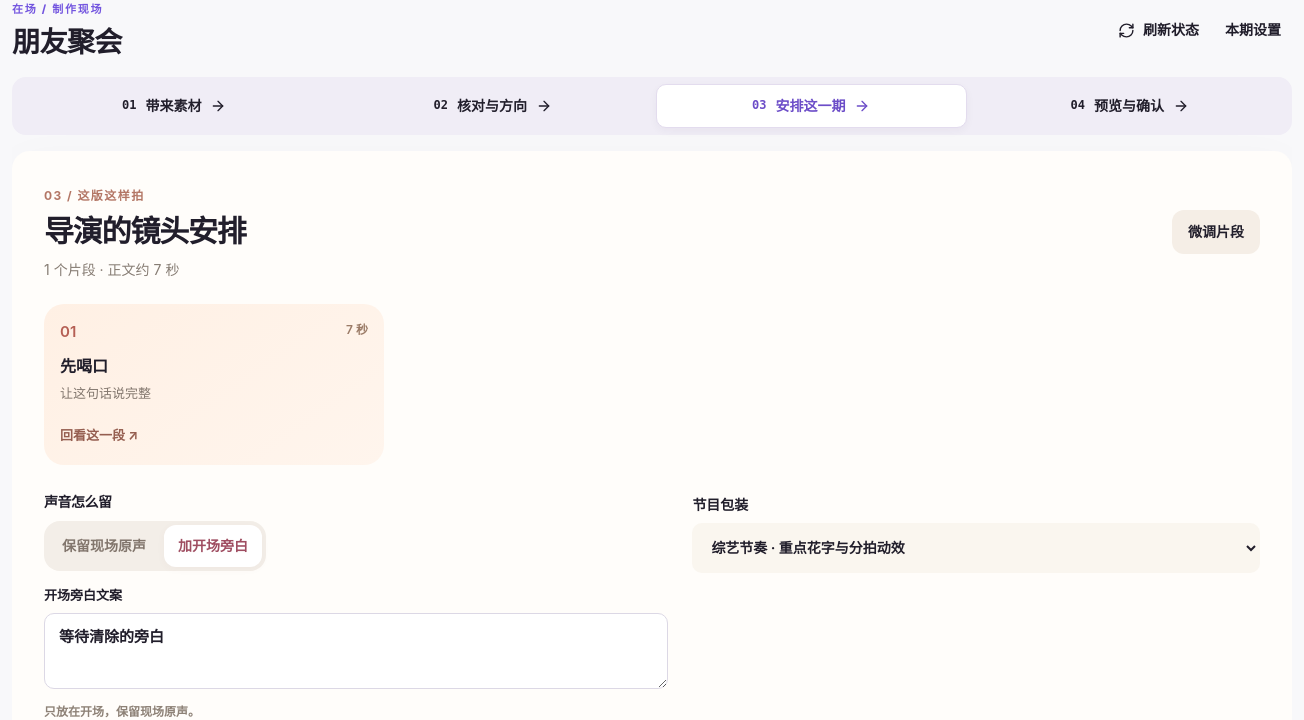
guided preview action › keeps a newly saved draft after a definite render failure and retries only its render
Later steps or results of the test are not shown.
Click the button "保留现场原声". click: click(104, 546)
box: left=48, top=525, right=160, bottom=567
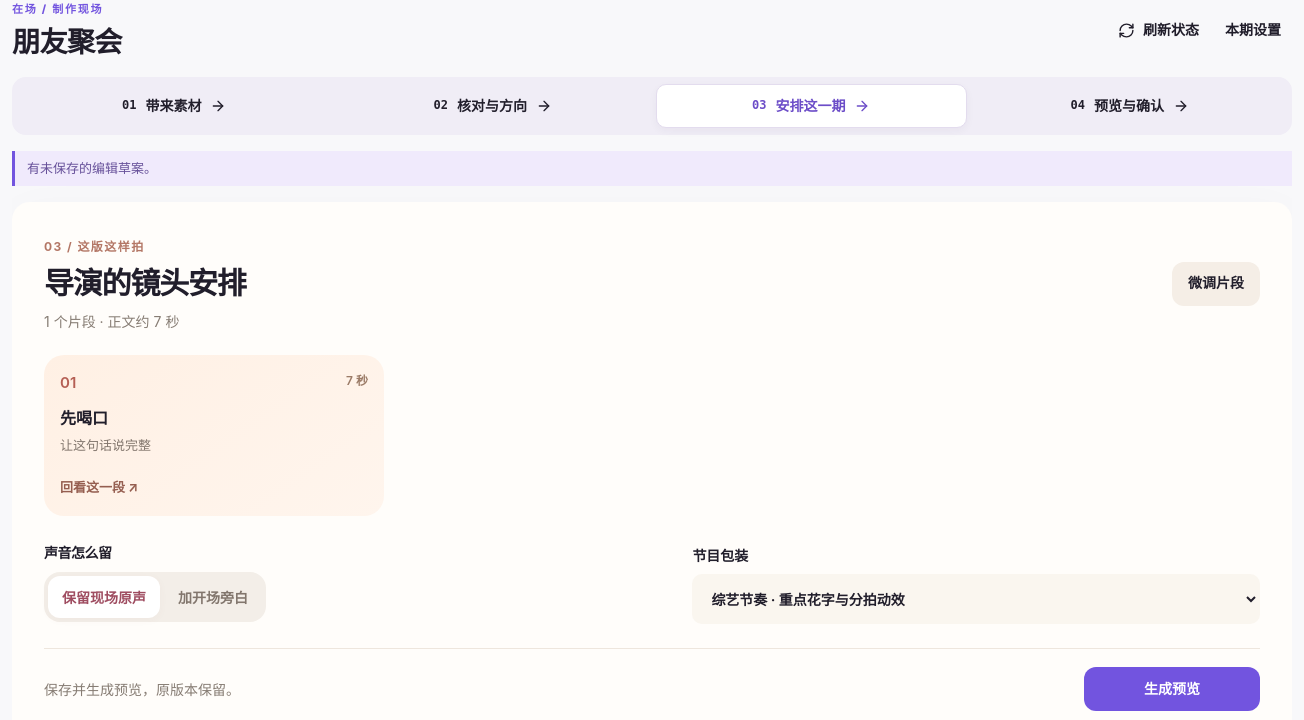
Click the button "生成预览". click: click(1172, 689)
box: left=1084, top=667, right=1260, bottom=711
(page scrolled)
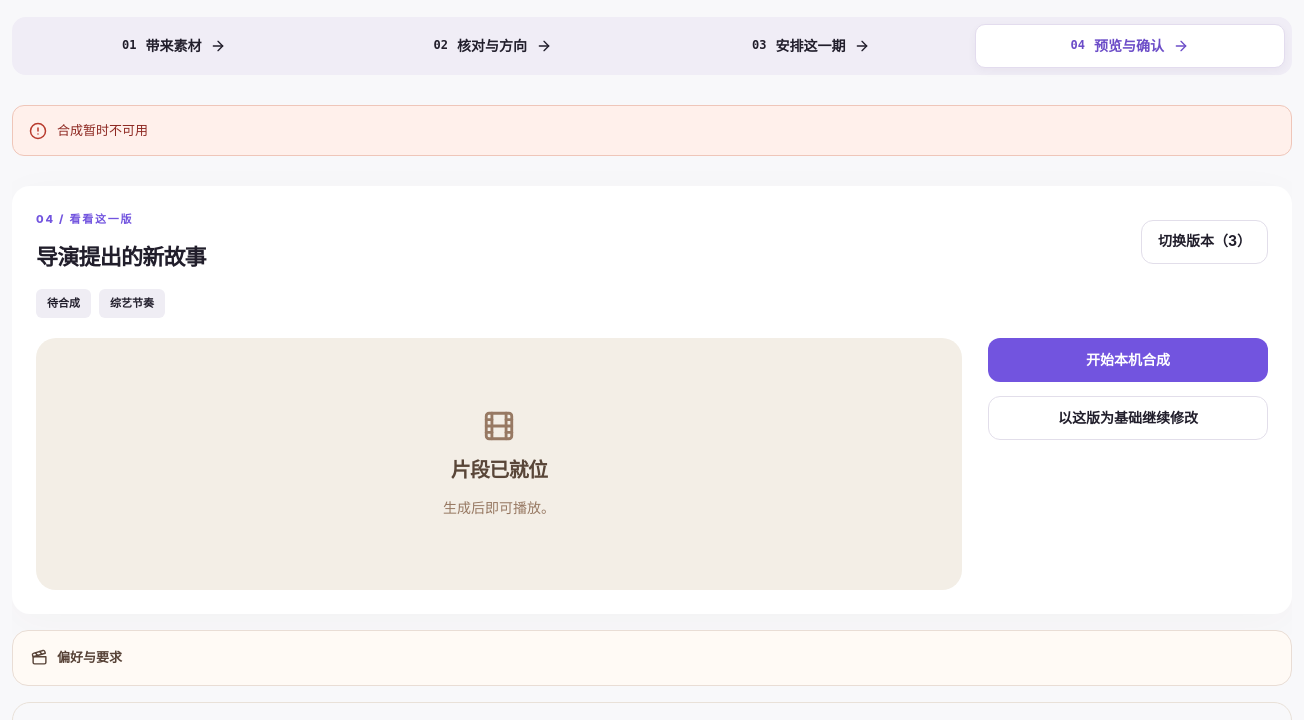
Expected: the button "开始本机合成" is enabled, left=988, top=338, right=1268, bottom=382
Expected: the text "合成暂时不可用" is shown, left=57, top=120, right=148, bottom=141
